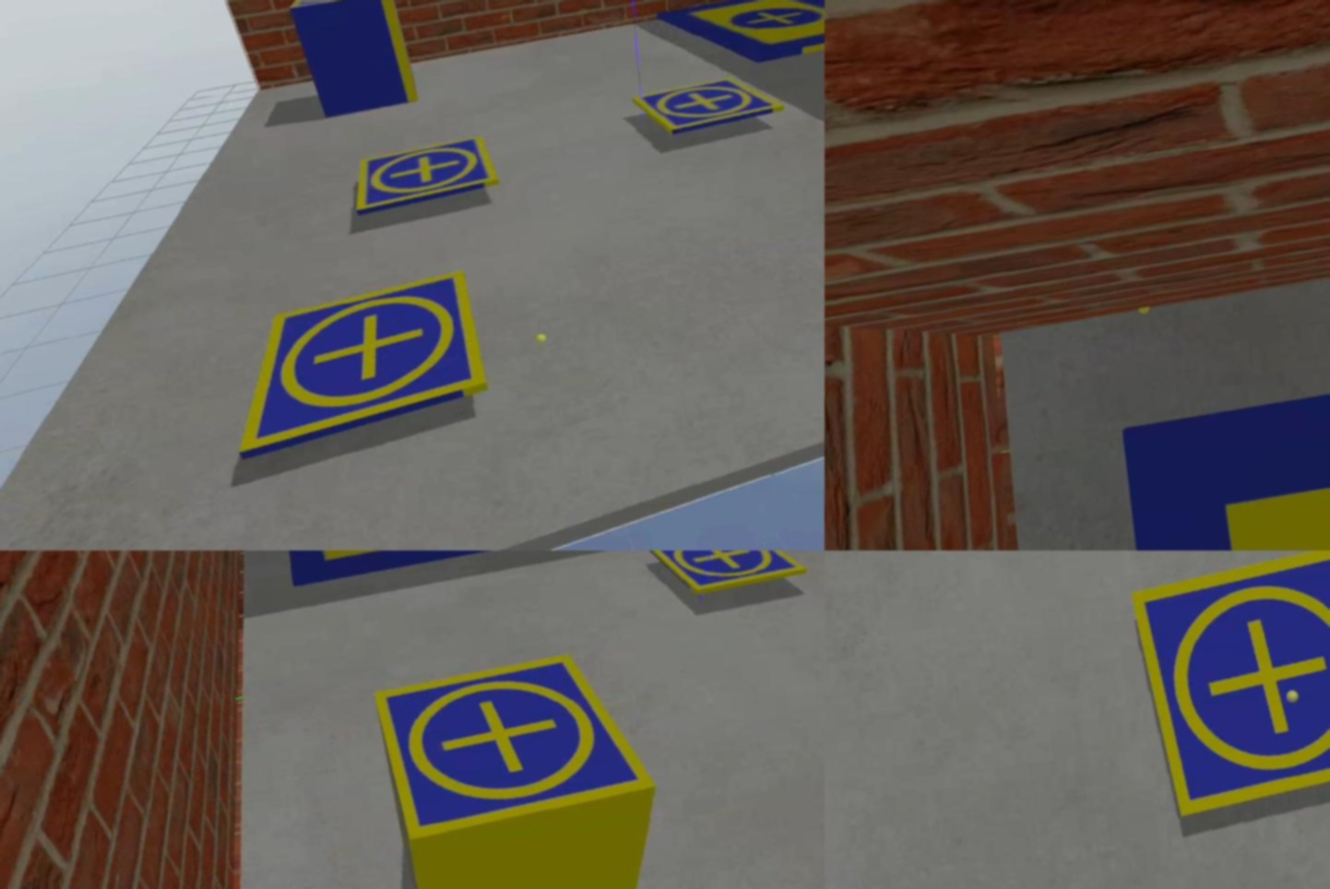large_base: (658, 1, 825, 74), (282, 551, 587, 590)
small_base: (374, 646, 659, 846), (1128, 551, 1330, 827), (218, 269, 493, 461), (349, 135, 503, 215), (636, 75, 784, 144), (643, 551, 809, 601), (285, 1, 398, 15)
